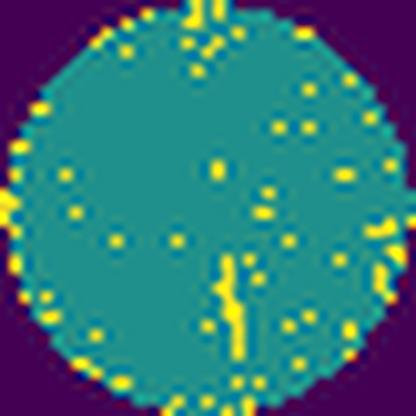Scratch: (208, 249, 250, 366)
